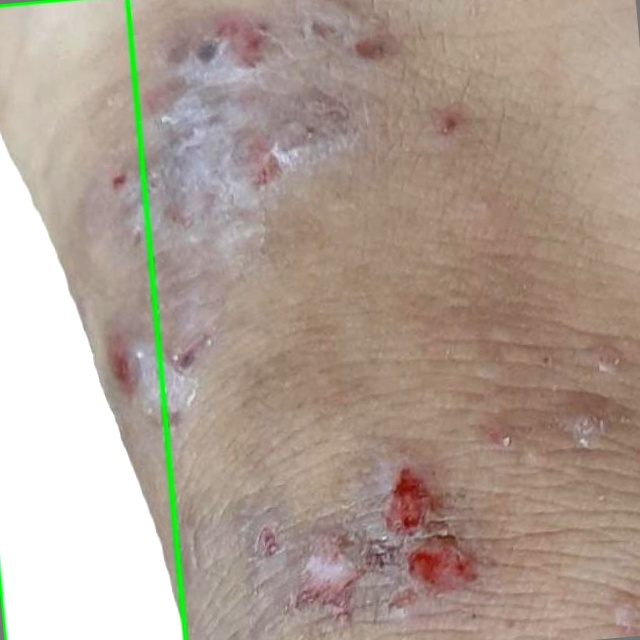Eczema: (0, 0, 185, 639)
